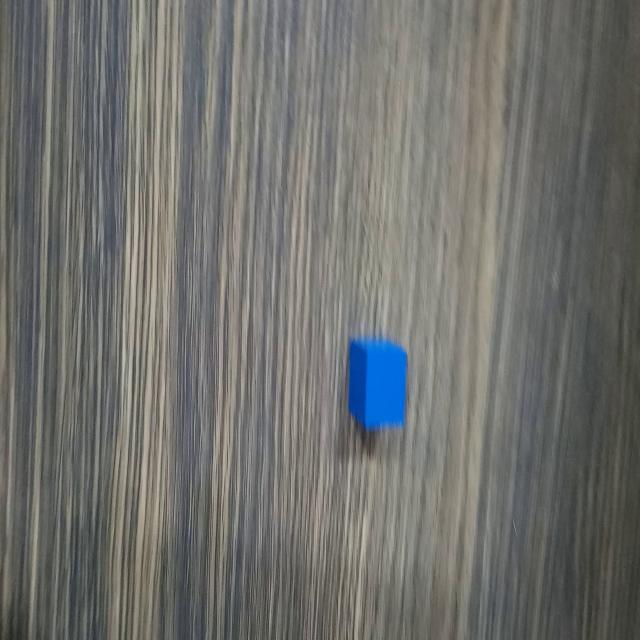cube: (345, 332, 411, 435)
